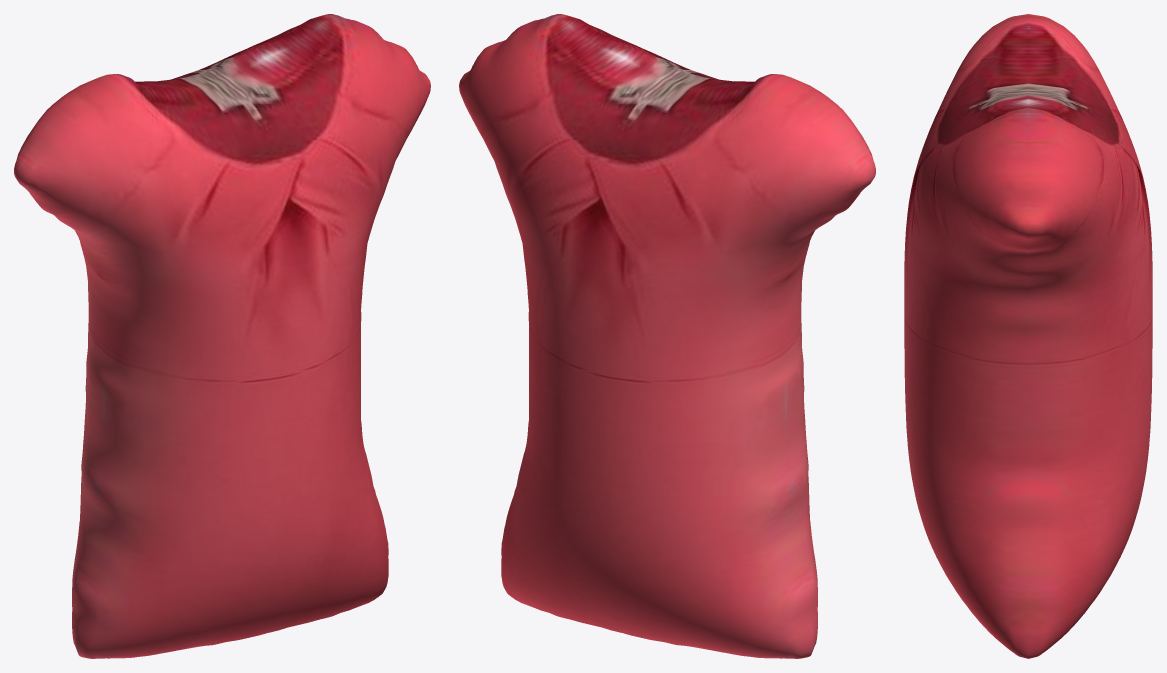
Rendered from AN621D05U-G11@2=cloth_front.glb.
The picture shows the model from 3 angles, left to right: view 1: azimuth 30°, elevation 25°; view 2: azimuth 150°, elevation 25°; view 3: azimuth 270°, elevation 25°; orthographic projection. The views are drawn at different scales.
Bounding box in the file's own units: 4.3 × 5.88 × 2.48.
1 material, 1 textured.
